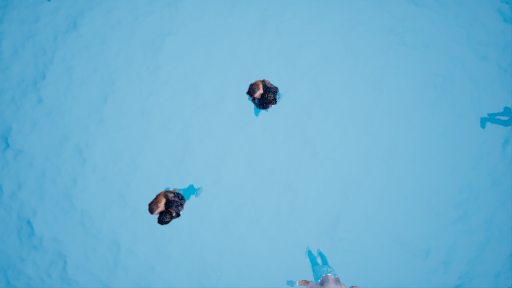person: (132, 178, 207, 228), (292, 244, 351, 288), (240, 78, 282, 120)
